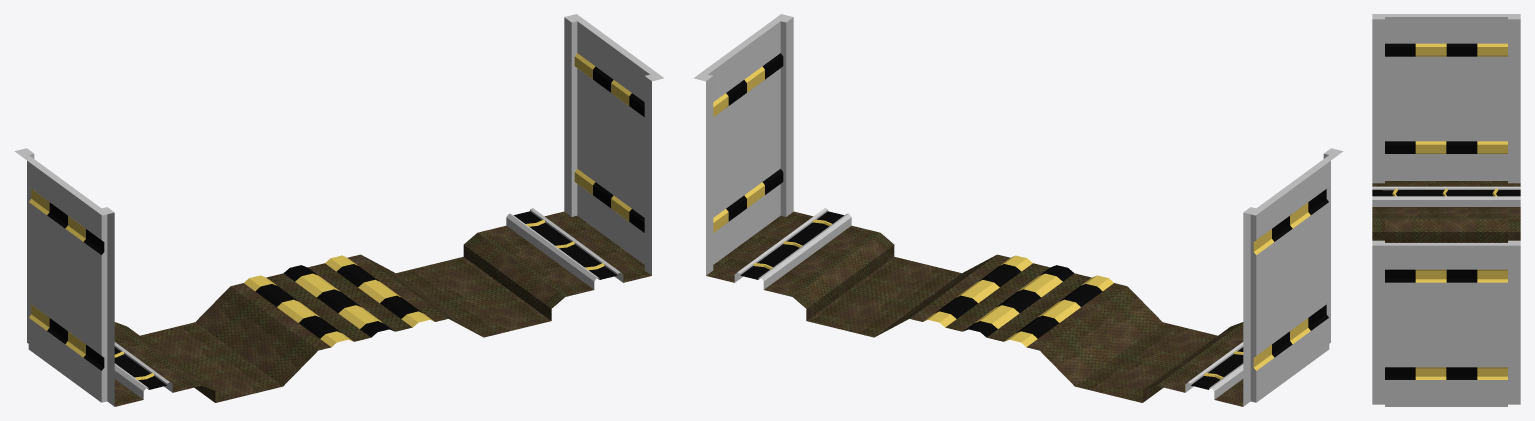
File: TileLv2.2.fbx
The picture shows the model from 3 angles, left to right: view 1: azimuth 30°, elevation 25°; view 2: azimuth 150°, elevation 25°; view 3: azimuth 270°, elevation 25°; orthographic projection. The views are drawn at different scales.
Parts seen in each view (by area): view 1: Cube; view 2: Cube; view 3: Cube.
Part boxes in pixels (bbox=[...]): Cube: bbox=[14, 14, 663, 406]; Cube: bbox=[694, 14, 1343, 406]; Cube: bbox=[1372, 14, 1520, 406].
Size of the model in its own units: 4432 by 1620 by 1200.
